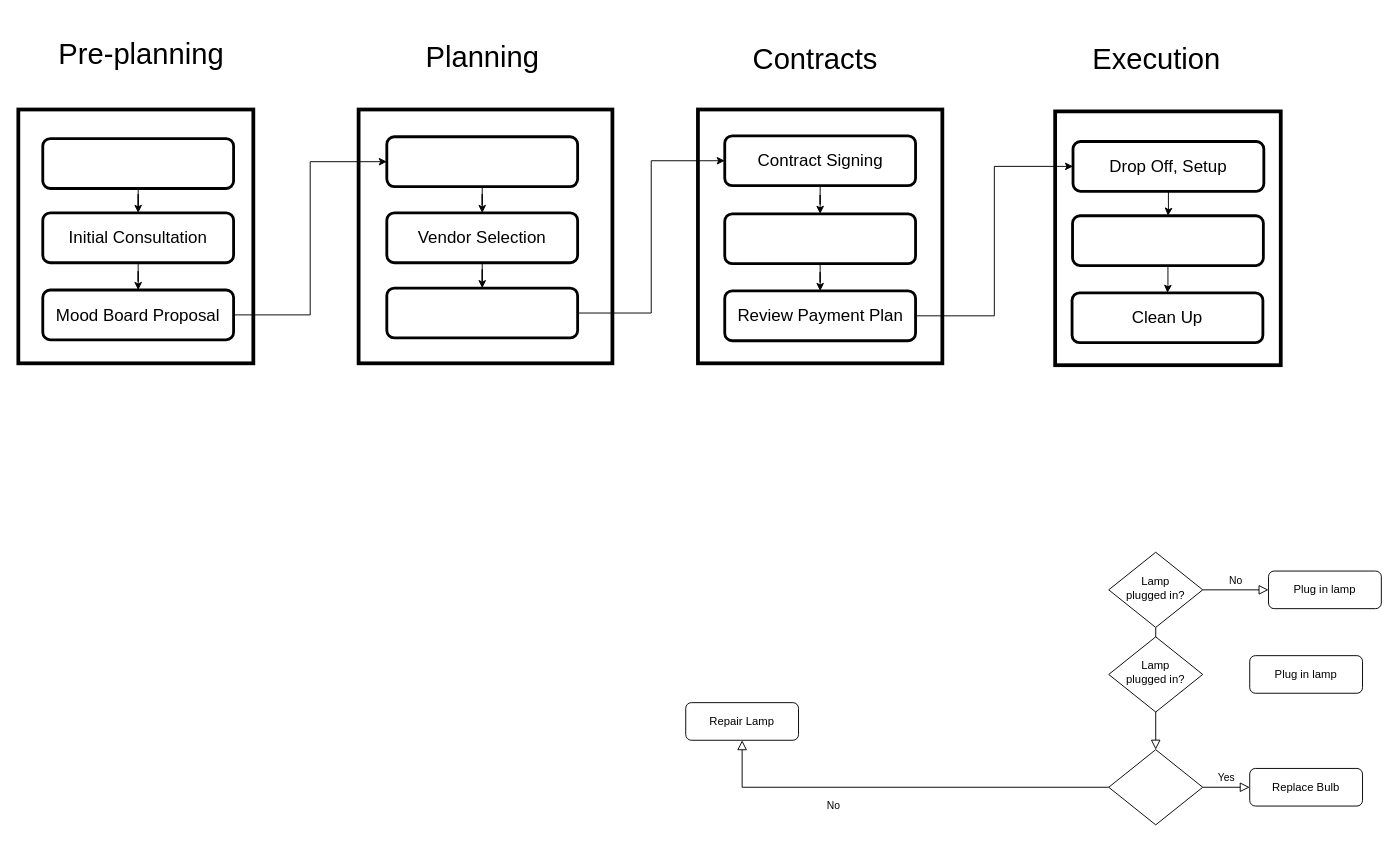
The diagram is 1398 pixels wide and 841 high, and some of its shapes have lost their labels. Each missing label, with the box of its shape:
Bulb burned out?: (1108, 749, 1203, 825)
Coordination: (1071, 214, 1264, 266)
Deposits Paid: (723, 212, 916, 265)
First Consultation: (385, 135, 579, 188)
Inquiry: (41, 137, 235, 189)
Rental & Collateral Selection: (385, 286, 579, 339)
